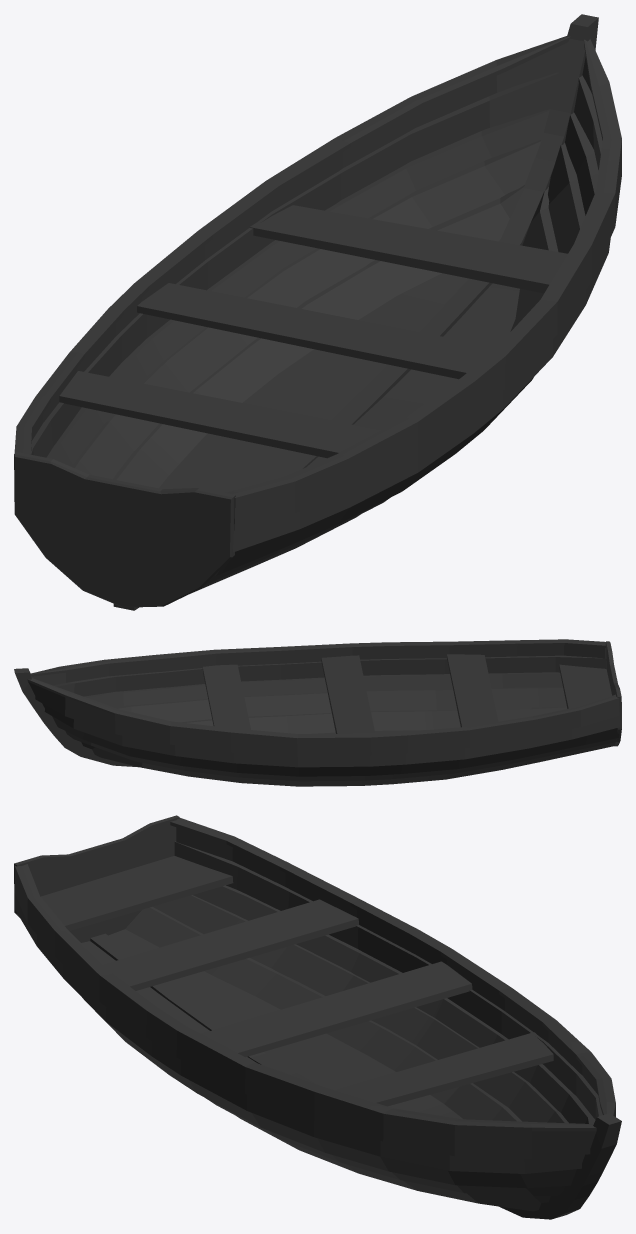
Rendered from boat.glb.
3 renders of one model, top to bottom at view 1: azimuth 30°, elevation 25°; view 2: azimuth 150°, elevation 25°; view 3: azimuth 270°, elevation 25°, orthographic. The views are drawn at different scales.
Visible parts, largest first — view 1: Boat; view 2: Boat; view 3: Boat.
Part boxes in pixels (box(x1,y1,x2,y2)): Boat: box(14, 14, 621, 610); Boat: box(14, 639, 621, 786); Boat: box(14, 815, 621, 1219).
Size of the model in its own units: 3.43 by 0.7676 by 2.59.
Materials: 1 (1 with a texture image).
